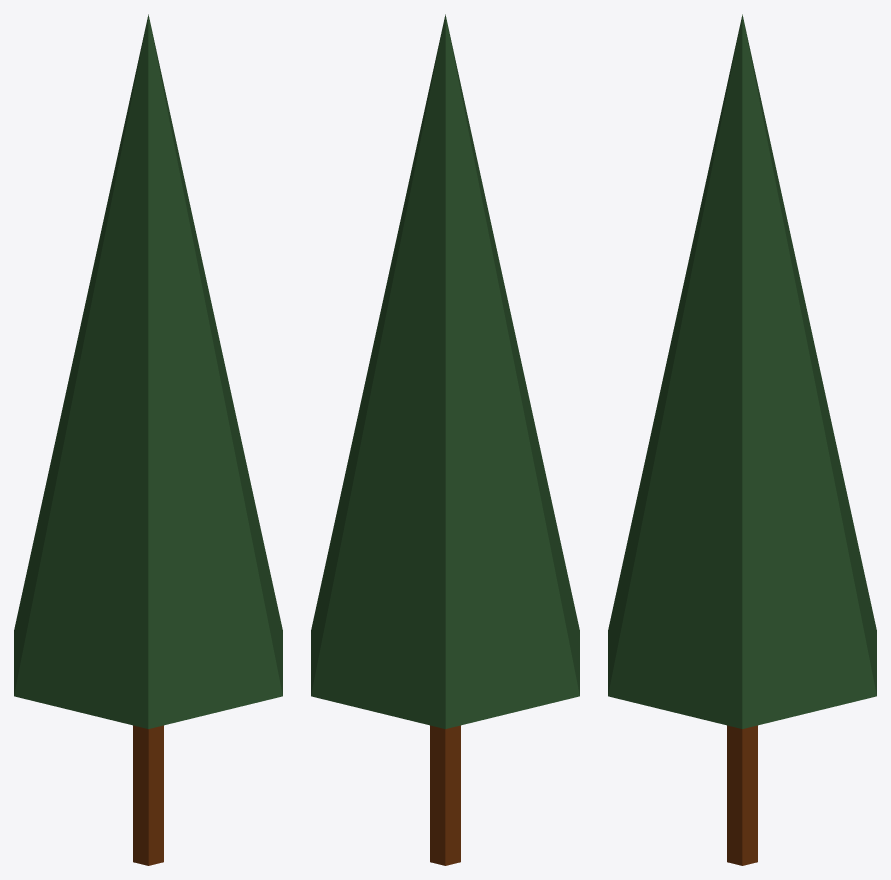
Rendered from tree2.obj.
3 renders of one model, left to right at view 1: azimuth 30°, elevation 25°; view 2: azimuth 150°, elevation 25°; view 3: azimuth 270°, elevation 25°, orthographic.
Size of the model in its own units: 2.6 by 7.8 by 2.25.
